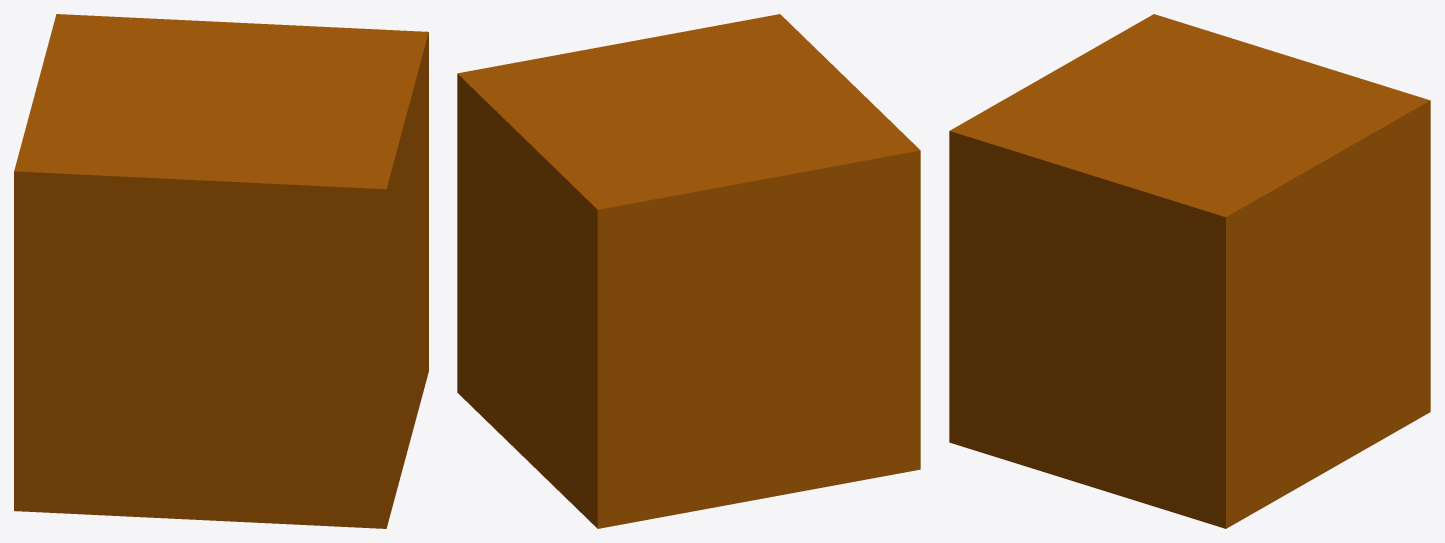
The model's file is giant1chair.fbx.
3 views of the same model, side by side, from view 1: azimuth 30°, elevation 25°; view 2: azimuth 150°, elevation 25°; view 3: azimuth 270°, elevation 25° (orthographic). The views are drawn at different scales.
Parts seen in each view (by area): view 1: giant1chair; view 2: giant1chair; view 3: giant1chair.
Part boxes in pixels (x1,y1,x2,y2): giant1chair: (14, 14, 428, 528); giant1chair: (457, 14, 920, 528); giant1chair: (949, 14, 1430, 528).
Size of the model in its own units: 3.18 by 2.27 by 3.18.
